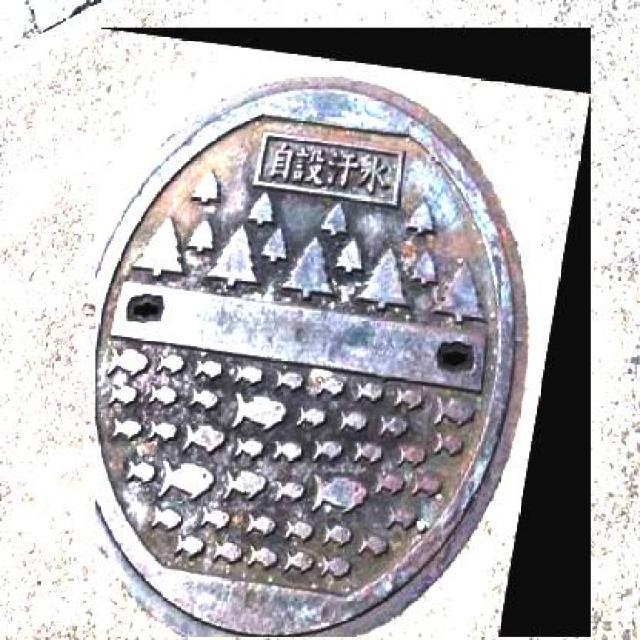Manhole: (96, 28, 592, 637)
